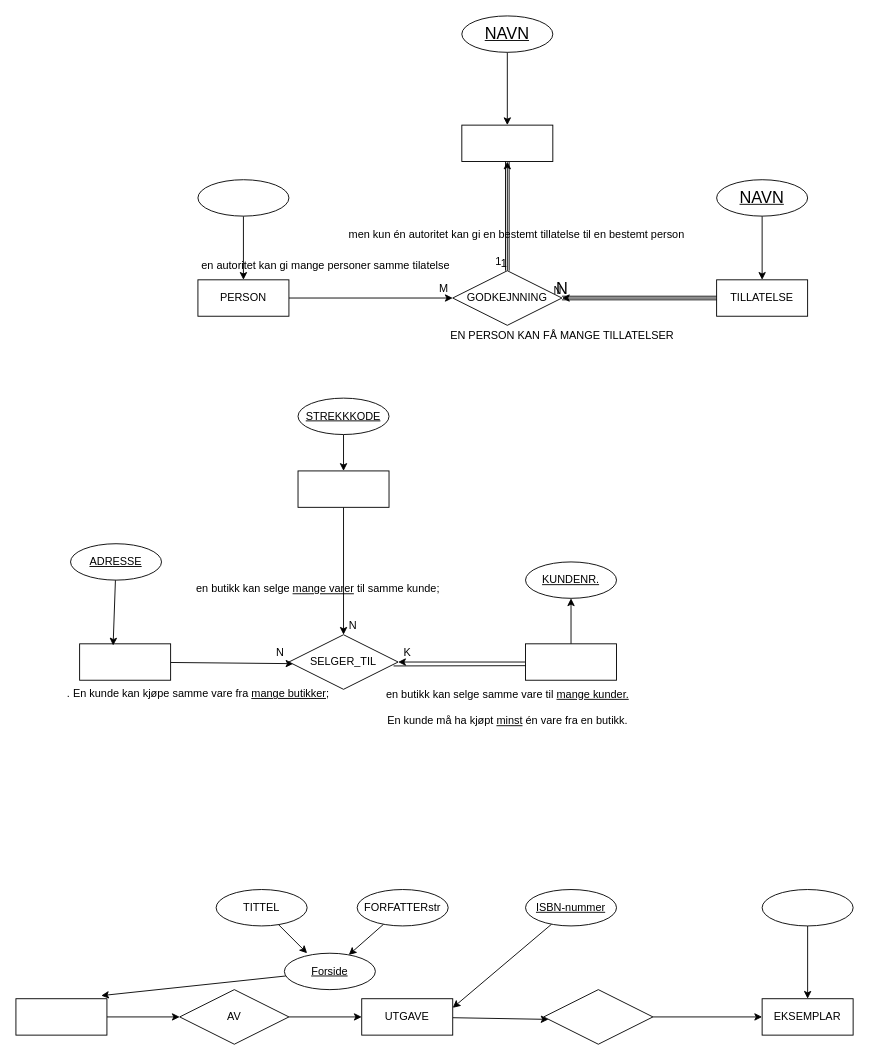
This 869x1060 diagram has some shape labels left out. The centre of each missing label's shape, as x and y in pixels:
"AUTORITET" belongs at (507,143).
"BOK" belongs at (61,1016).
"BUTIKK" belongs at (125,661).
"HAR" belongs at (598,1016).
"KUNDE" belongs at (571,661).
"nummer" belongs at (807,907).
"PERSONNR." belongs at (243,197).
"VARE" belongs at (343,488).
